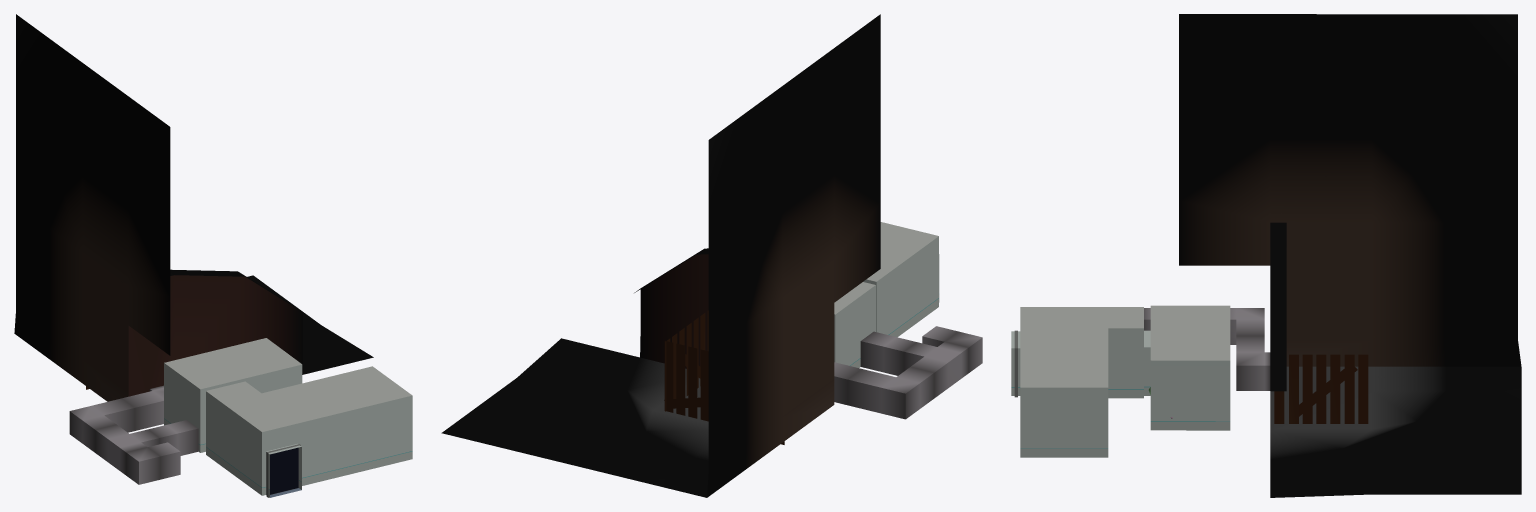
The model's file is Launderette.fbx.
The picture shows the model from 3 angles, left to right: view 1: azimuth 30°, elevation 25°; view 2: azimuth 150°, elevation 25°; view 3: azimuth 270°, elevation 25°; orthographic projection. The views are drawn at different scales.
Parts seen in each view (by area): view 1: Launderette; view 2: Launderette; view 3: Launderette.
Part boxes in pixels (x1,y1,x2,y2): Launderette: [14, 14, 412, 497]; Launderette: [441, 14, 982, 497]; Launderette: [1011, 14, 1521, 497].
Size of the model in its own units: 4337 by 4396 by 5683.
